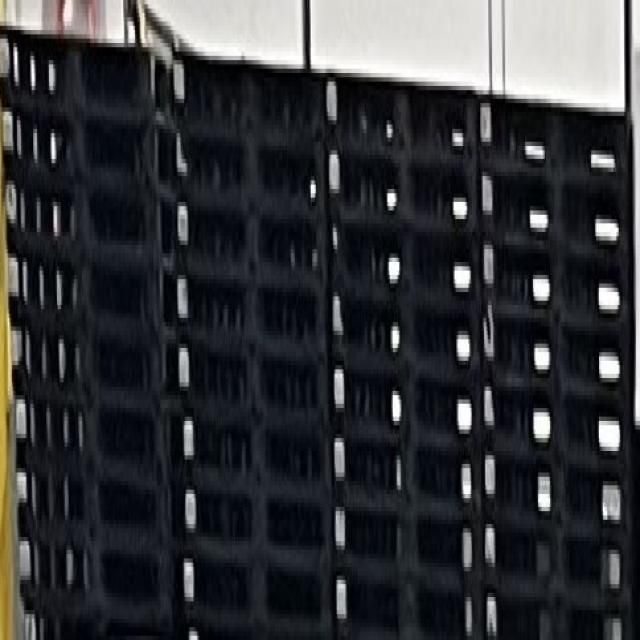igps: (0, 14, 169, 121), (477, 82, 638, 190), (481, 295, 638, 400), (4, 313, 176, 407), (324, 62, 478, 166), (8, 385, 177, 477), (2, 246, 176, 334), (479, 234, 638, 330), (168, 550, 334, 640), (170, 42, 325, 138), (169, 332, 332, 423), (0, 172, 172, 258), (478, 168, 638, 260), (163, 198, 330, 286), (324, 147, 480, 239), (481, 444, 637, 534), (168, 266, 330, 352), (324, 220, 482, 308), (168, 478, 334, 561), (169, 411, 333, 494), (12, 524, 177, 606), (165, 125, 328, 208), (482, 376, 638, 461), (0, 108, 172, 185), (328, 287, 482, 370), (333, 501, 483, 585), (332, 432, 483, 514), (330, 363, 482, 444), (14, 459, 178, 533), (482, 514, 637, 592), (334, 567, 483, 640), (481, 580, 636, 640), (18, 598, 177, 640), (181, 601, 254, 640)
